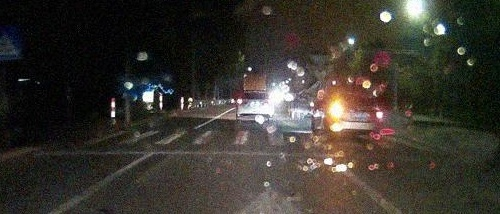L_light: (331, 107, 341, 117), (237, 99, 243, 104)
R_light: (375, 110, 382, 119), (266, 100, 273, 105)
T_light: (349, 95, 356, 97), (253, 92, 258, 94)
night-left: (327, 90, 383, 140)
night-no: (237, 91, 274, 122)
